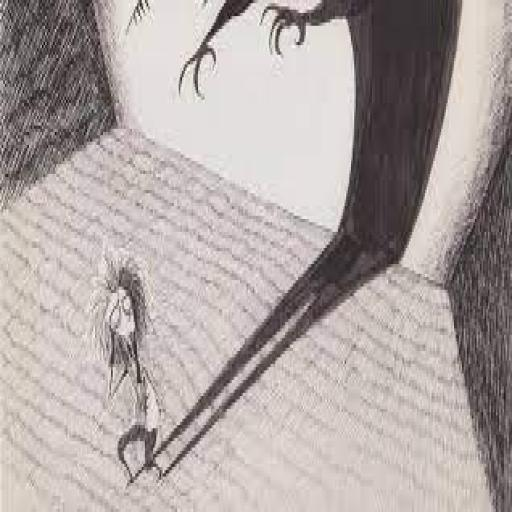person: (91, 250, 167, 494)
